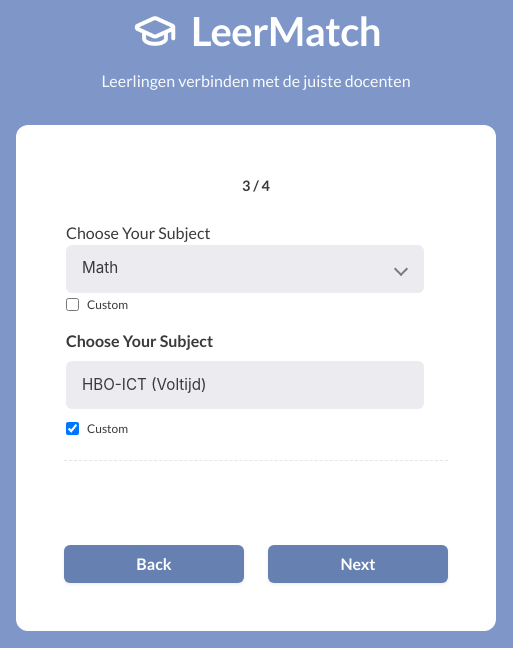
Test: RegisterTeacherPart3 › should toggle custom inputs via checkbox
Note: Turns off 'custom' for the second item.
Click the 2nd checkbox labelled "Custom" at (72, 428), box [66,422,79,434]
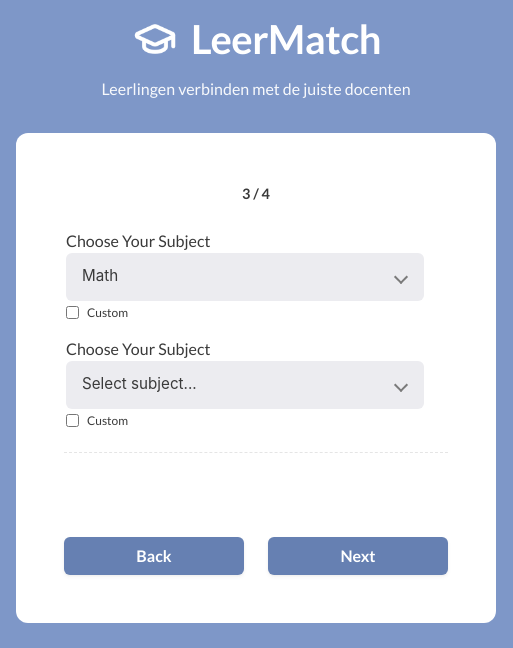
expect the number of dropdowns is 2: met, box [66,253,424,301]; [66,360,424,408]
